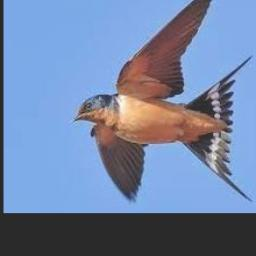Swallow: (69, 0, 253, 202)
